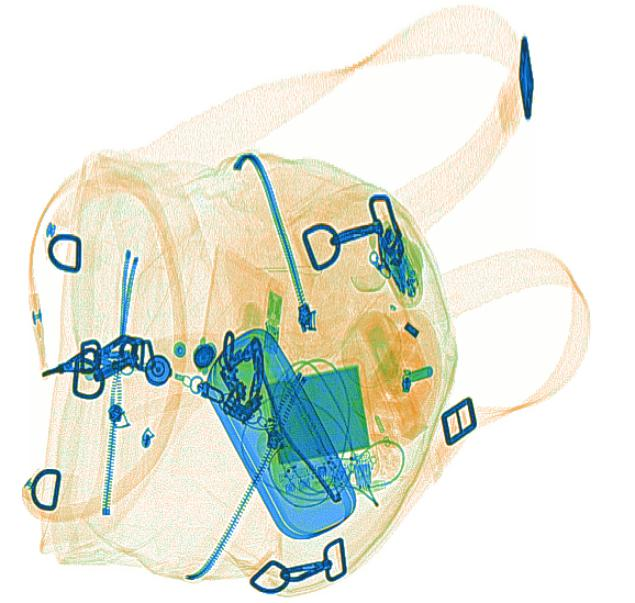USBFlashDisk: (261, 290, 283, 354)
plasticBottleWithaNozzle: (345, 349, 395, 454)
